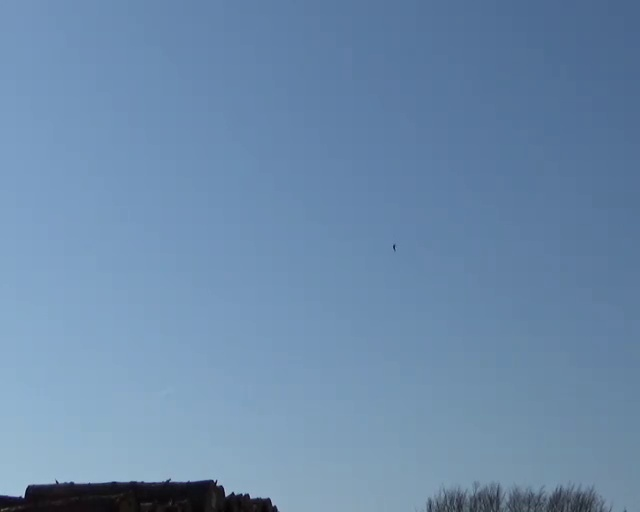BIRD: (391, 243, 398, 252)
